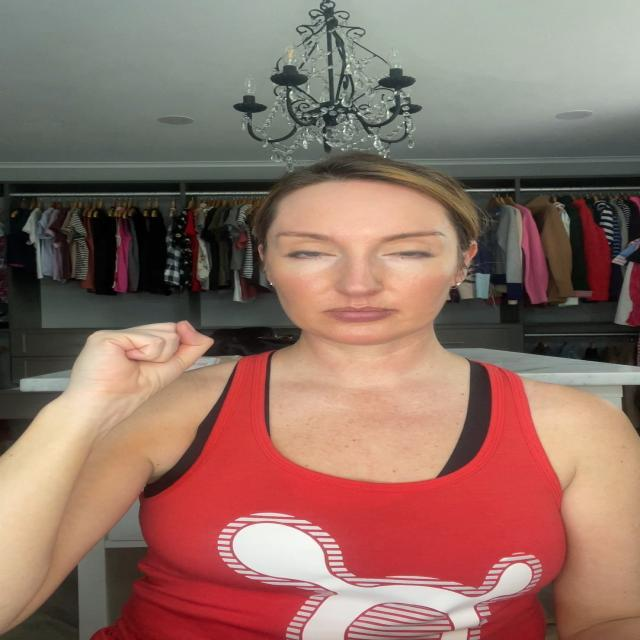fist: (67, 321, 215, 409)
